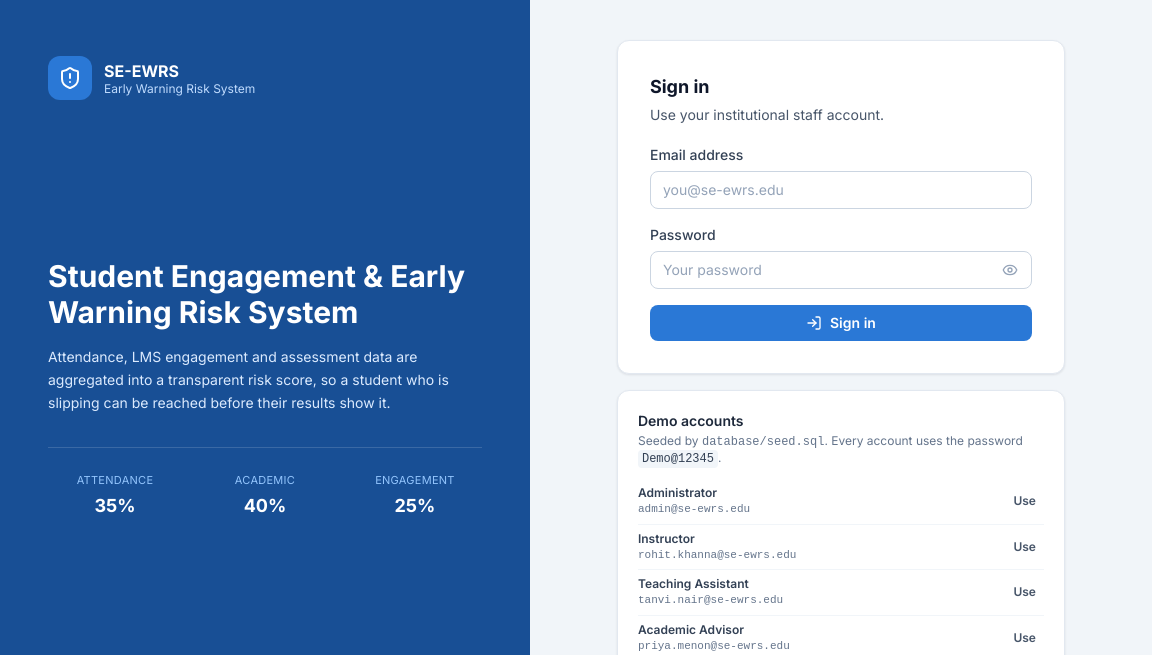
it: LoginPage authentication › surfaces an unreachable backend as an explanation, not a silent failure
This screenshot has width=1152, height=655.
In the field labelled "Email address": (841, 190) x1=650 y1=171 x2=1032 y2=209, type "admin@se-ewrs.edu"
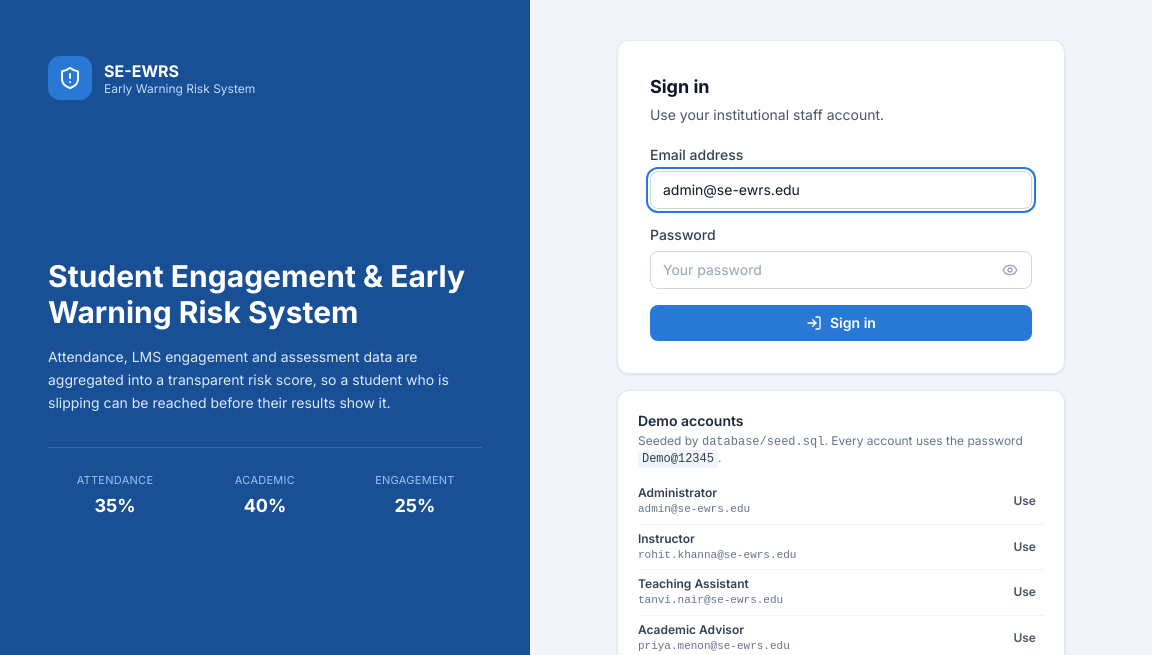
In the password field labelled "Password": (841, 270) x1=650 y1=251 x2=1032 y2=289, type "Demo@12345"
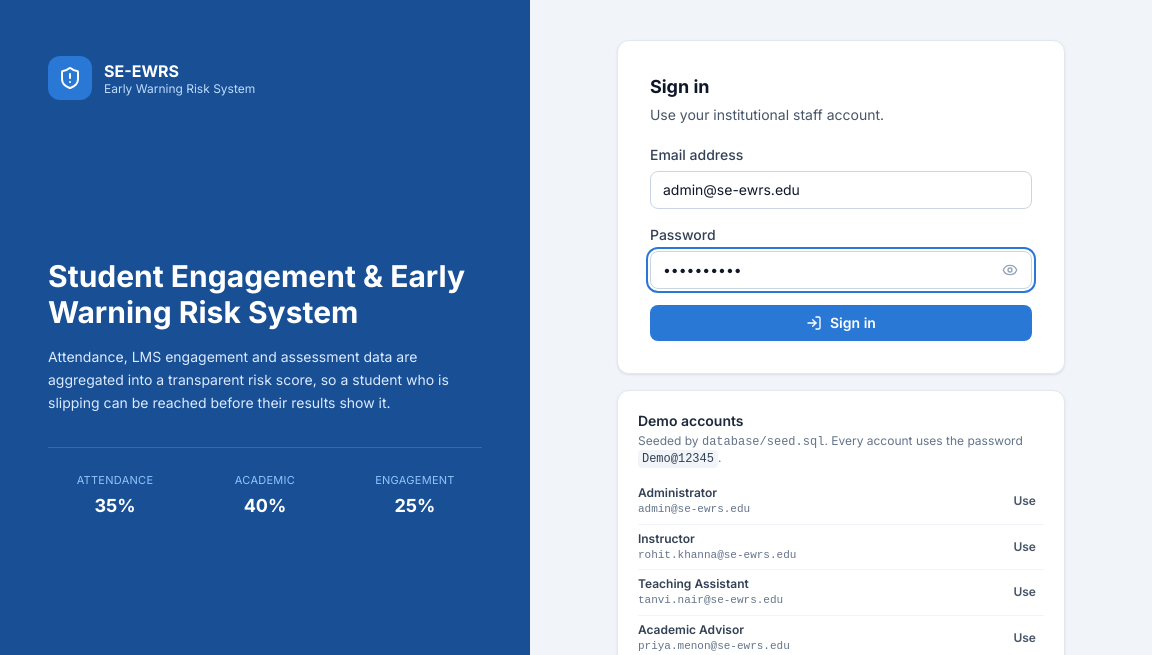
Click the button "Sign in": (841, 323) x1=650 y1=305 x2=1032 y2=341
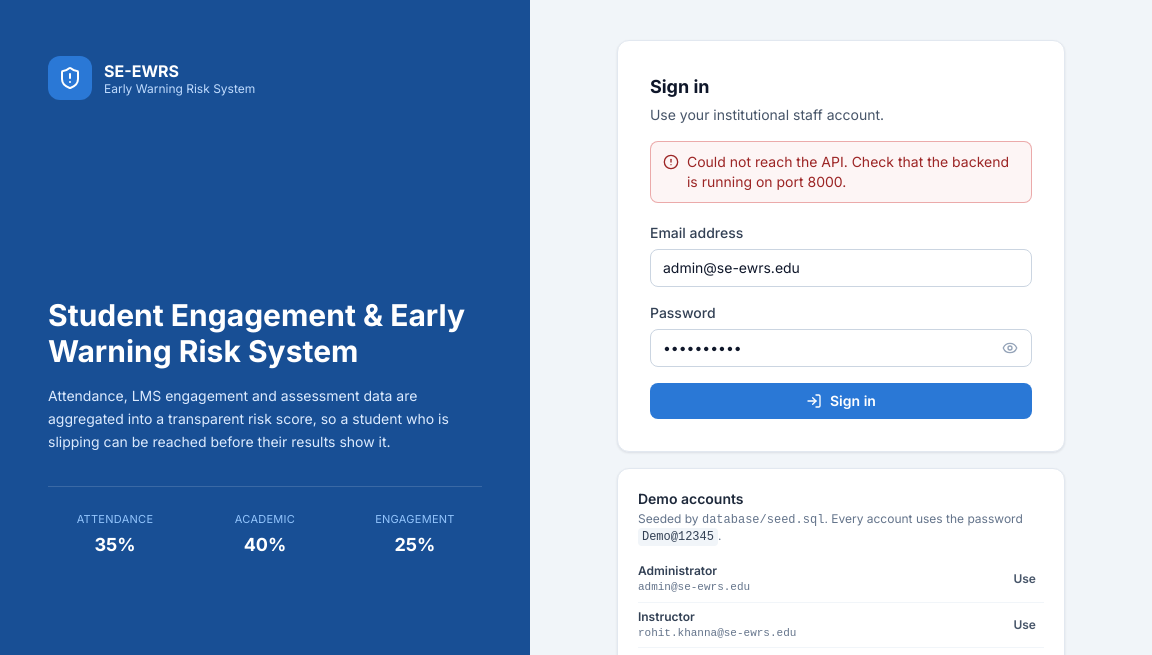
Expected: the message shows "Could not reach the API", x1=687 y1=153 x2=1009 y2=190
